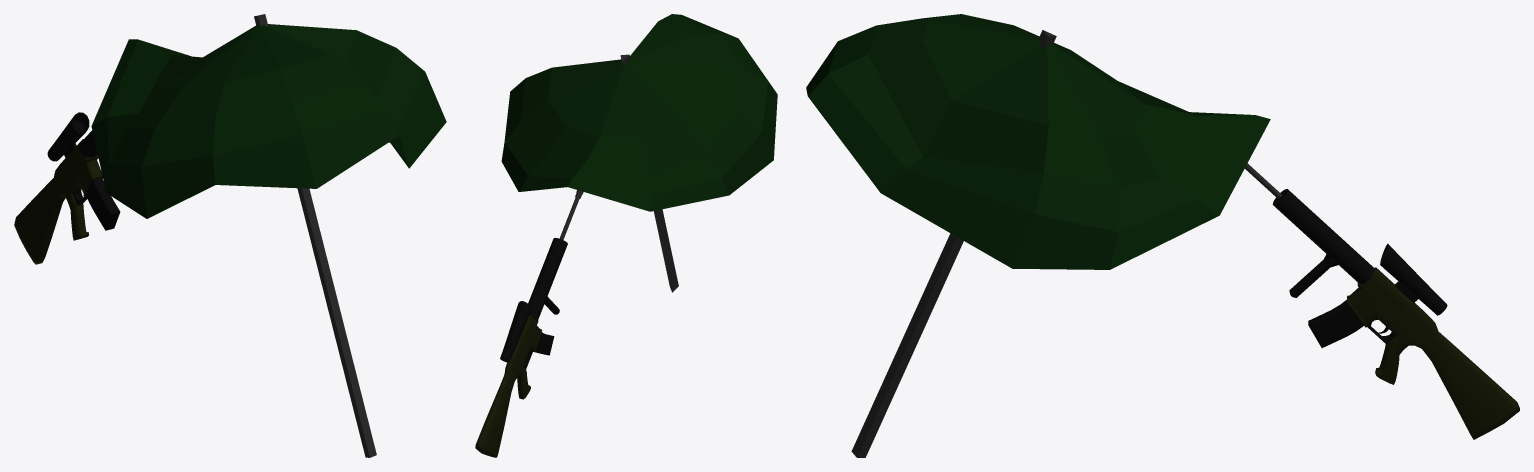
The model's file is umbrellaC.obj.
3 renders of one model, left to right at view 1: azimuth 30°, elevation 25°; view 2: azimuth 150°, elevation 25°; view 3: azimuth 270°, elevation 25°, orthographic. The views are drawn at different scales.
Visible parts, largest first — view 1: polySurface926; view 2: polySurface926; view 3: polySurface926.
Part boxes in pixels (left/top/right/bottom): polySurface926: left=14, top=14, right=446, bottom=457; polySurface926: left=475, top=14, right=777, bottom=457; polySurface926: left=806, top=14, right=1519, bottom=457.
Size of the model in its own units: 9.9 by 11.26 by 17.42.
